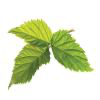Raspberry leaf: (6, 42, 52, 91), (51, 28, 95, 74), (7, 18, 52, 46)
